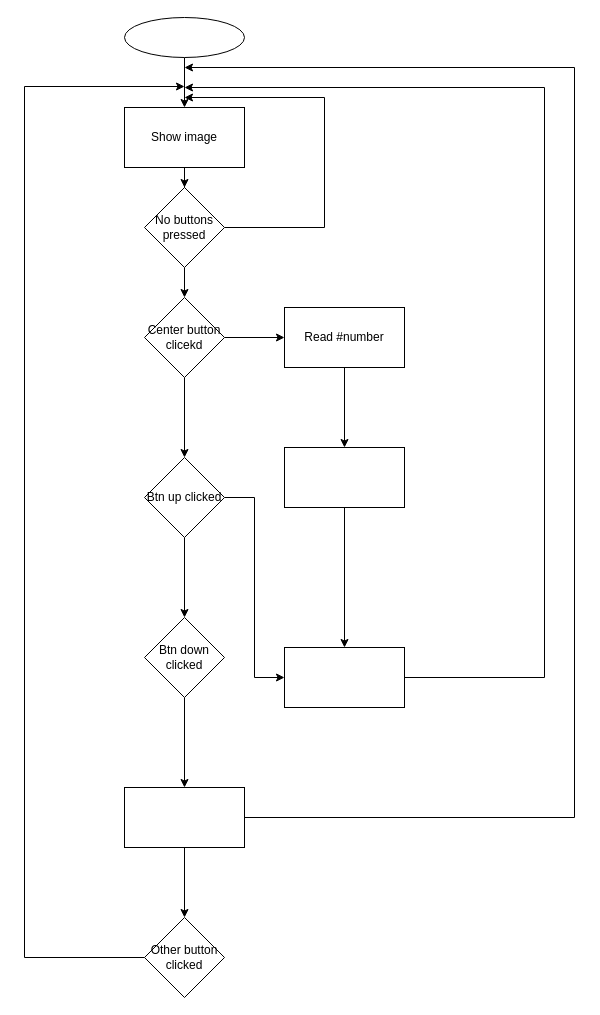
Image size: 600x1015. Some labels were removed from this diagram. The centre of each missing label's shape, as x and y in pixels:
"Decrease #number" goes at point (184, 817).
"Increase #number" goes at point (344, 677).
"run program #number" goes at point (344, 477).
"Start" goes at point (184, 37).
